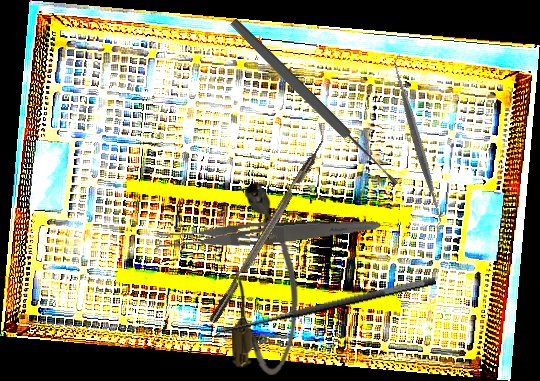Cannula: (231, 181, 300, 376)
Chopper: (199, 122, 336, 324)
Dressing Forceps: (152, 210, 382, 254)
Hook Surgical: (213, 272, 441, 354)
Spatula Surgical: (329, 53, 506, 229)
Surgical Spoon: (227, 16, 402, 190)
